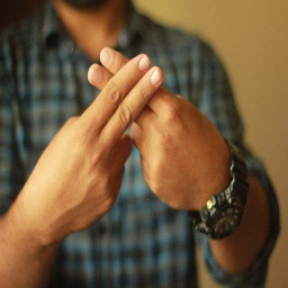F: (60, 41, 189, 173)
